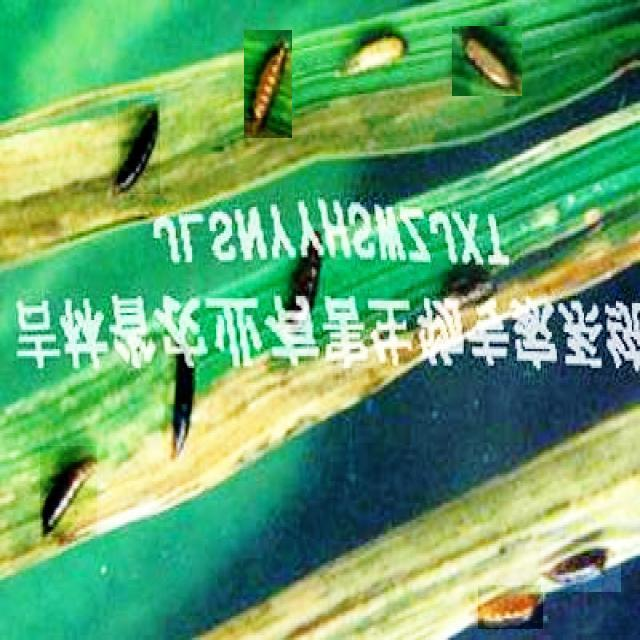whorl-maggot: (40, 446, 97, 537), (245, 30, 293, 138), (452, 26, 522, 96), (331, 24, 414, 82), (541, 542, 621, 592), (118, 100, 160, 194), (478, 585, 543, 629), (167, 366, 194, 470)
